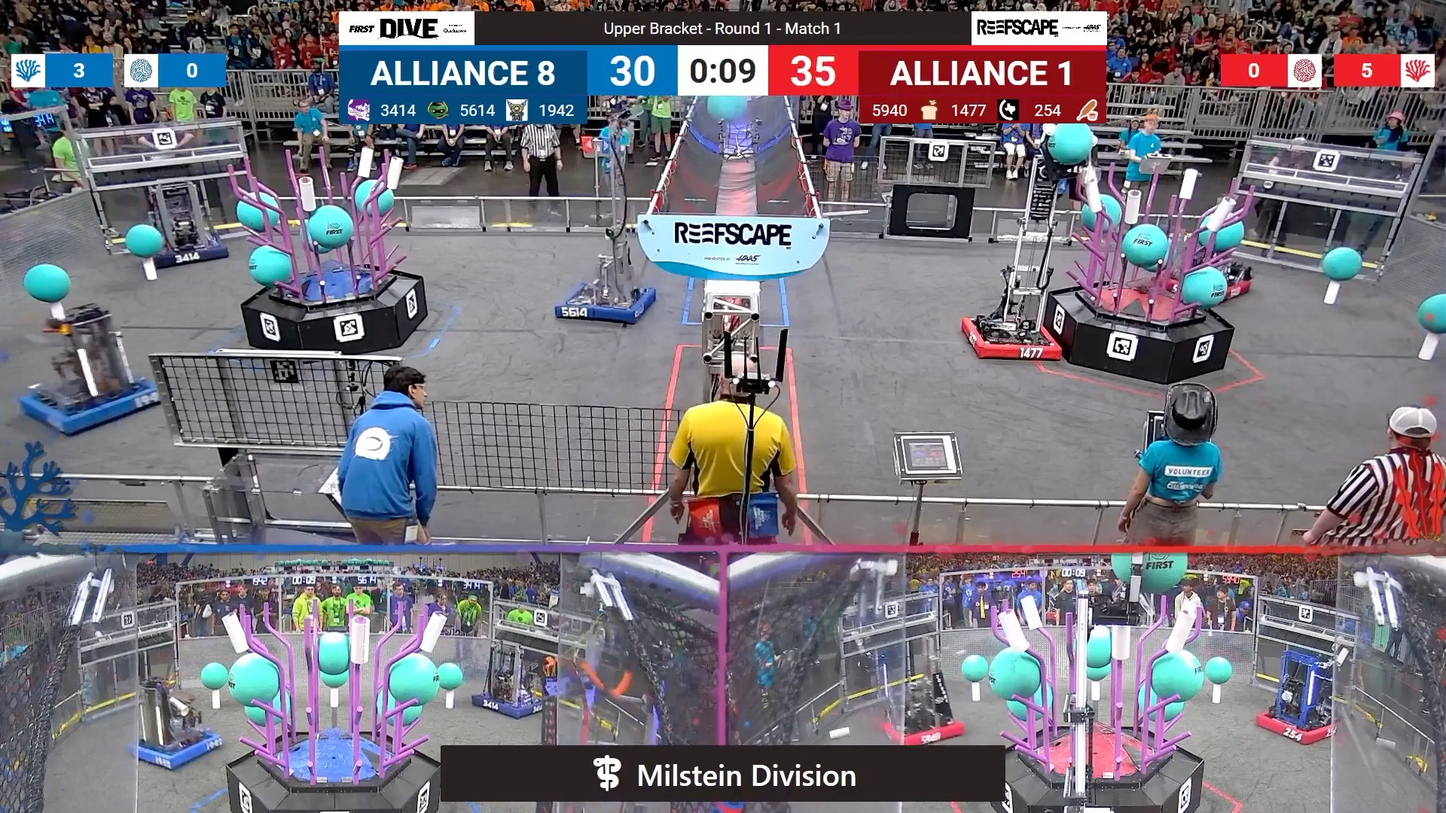bumpers: (24, 373, 179, 431), (954, 306, 1074, 371), (1250, 692, 1351, 753), (122, 724, 230, 777), (555, 279, 660, 327), (879, 707, 978, 750), (467, 679, 556, 723), (1156, 267, 1255, 306), (139, 239, 230, 268)
